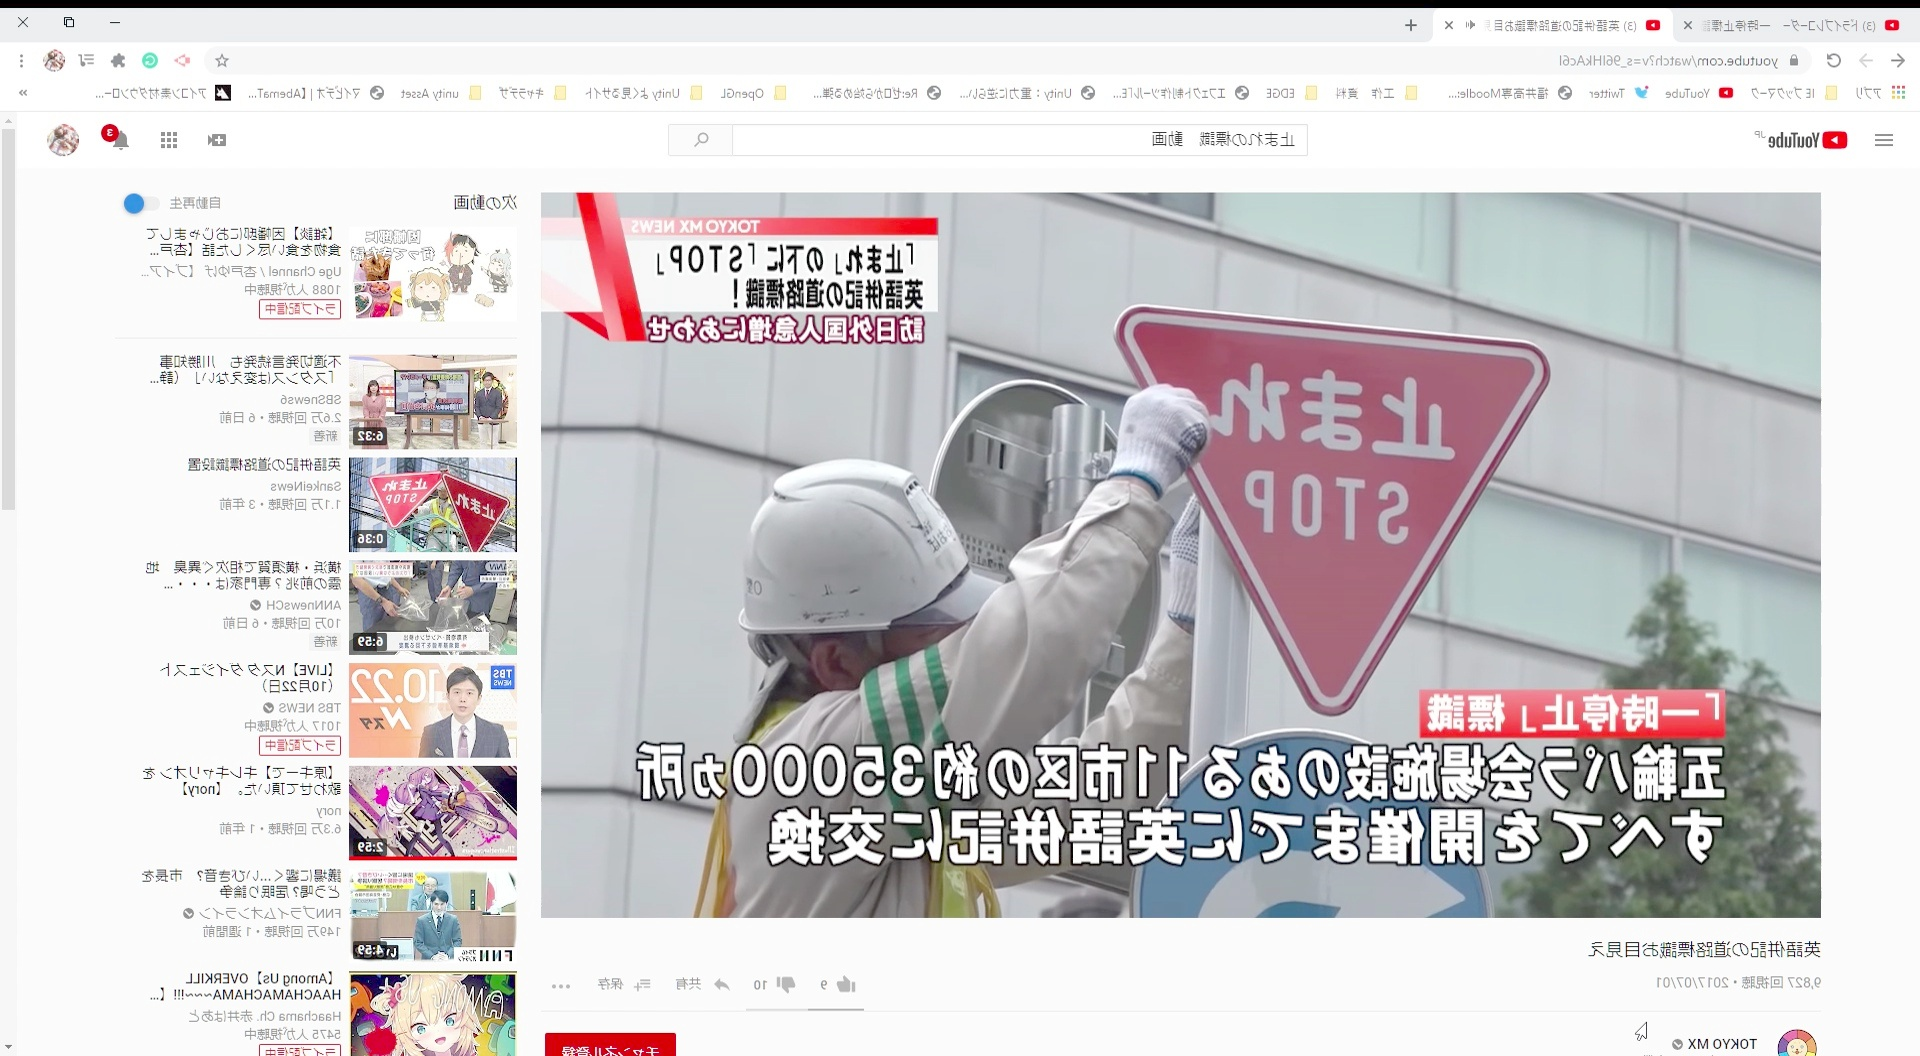Regulatory_sign_triangle: (1108, 295, 1547, 740)
